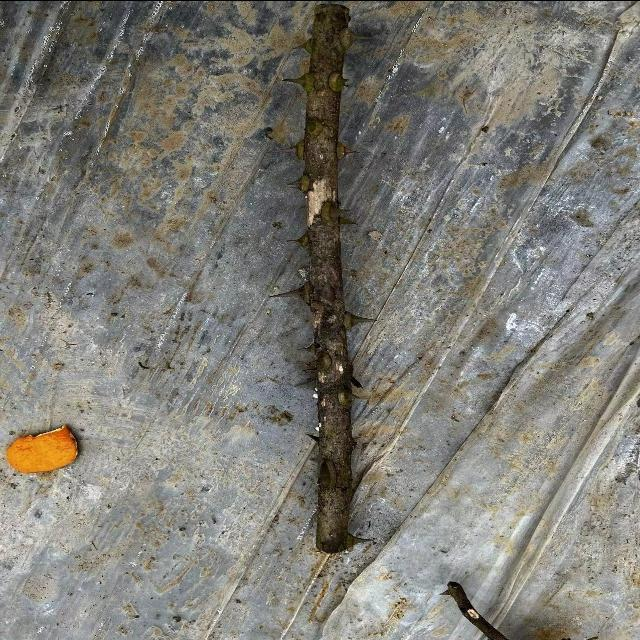branch: (303, 1, 358, 553)
